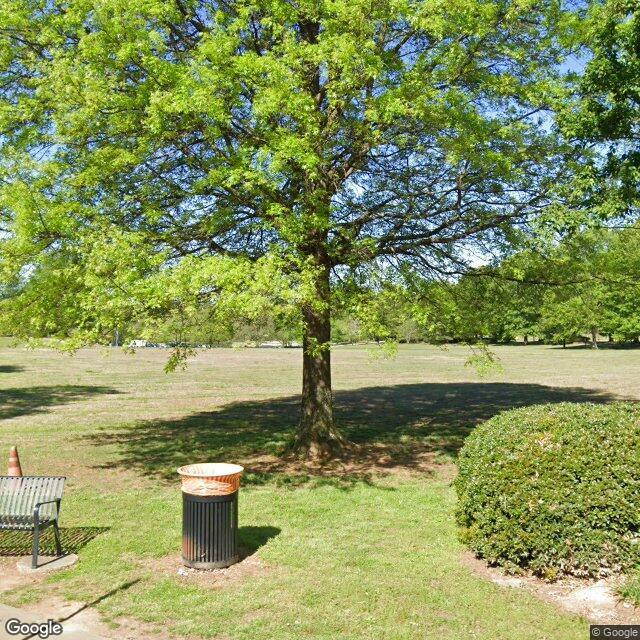seating: (0, 473, 67, 571)
trash_can: (176, 462, 246, 572)
